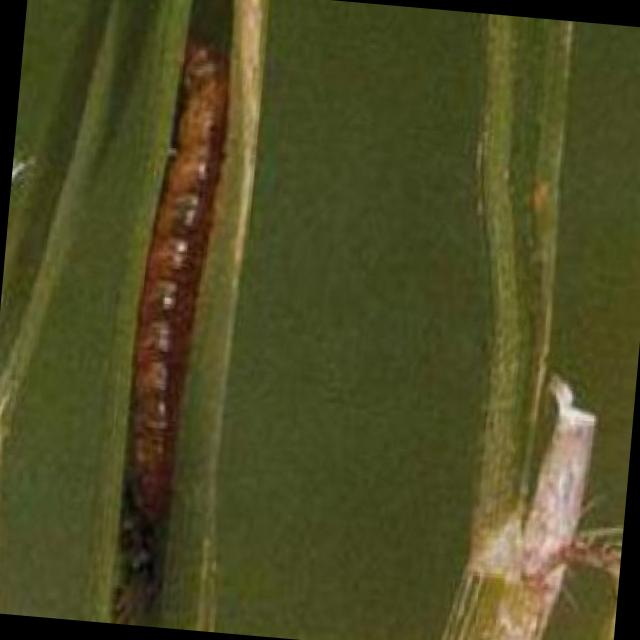leaf-folder: (105, 29, 243, 598)
